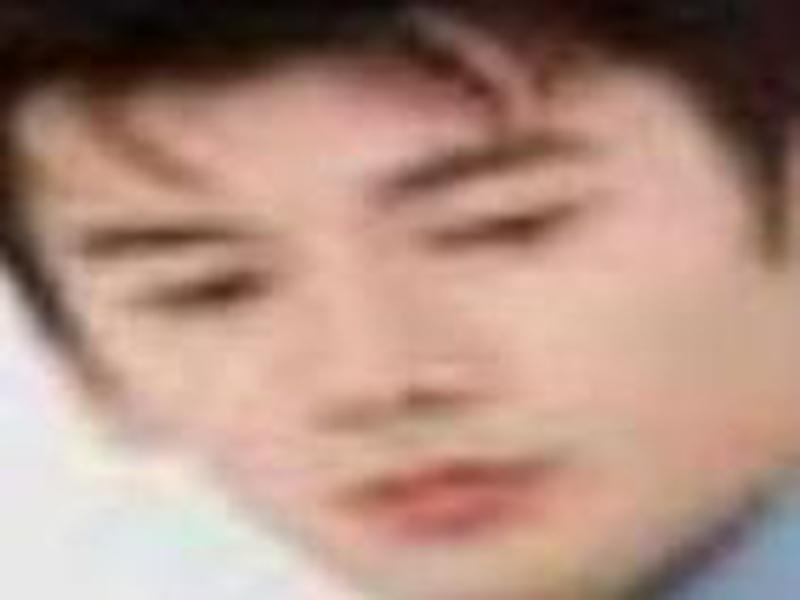without_mask: (8, 53, 783, 599)
